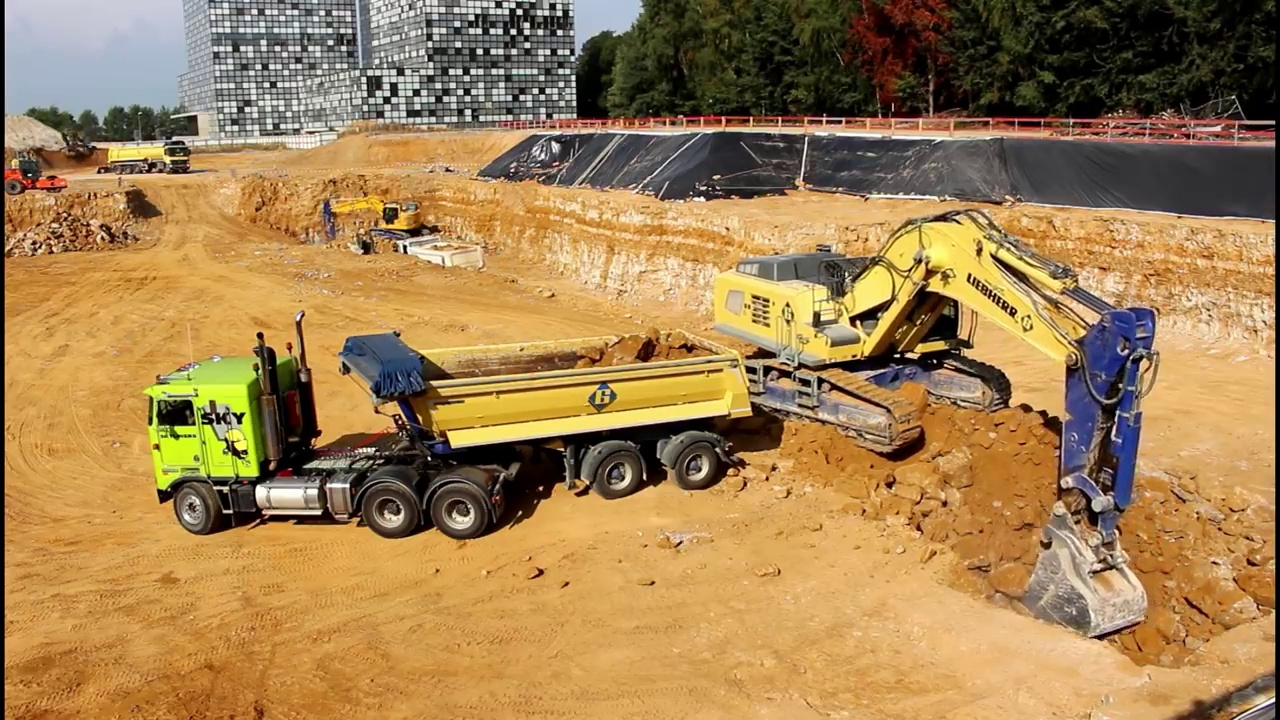compactor: (4, 154, 68, 198)
excavator: (694, 205, 1159, 650), (311, 192, 439, 267), (56, 124, 111, 169)
truck: (139, 307, 757, 547), (391, 230, 490, 290), (104, 136, 194, 181)
